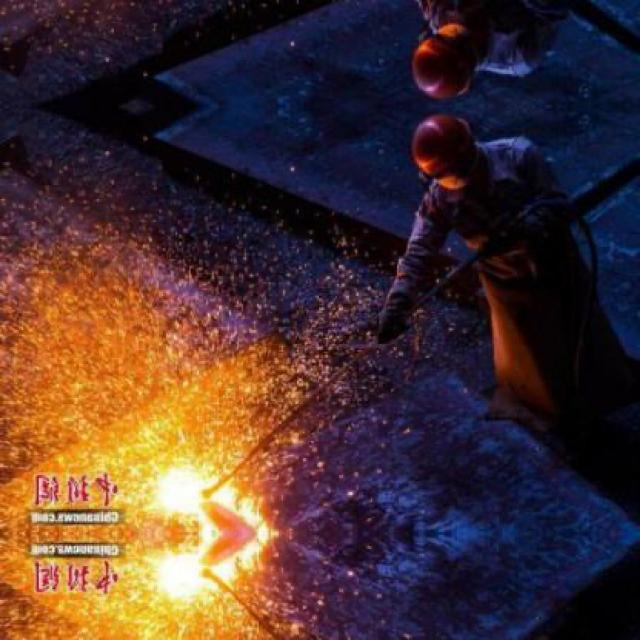helmet: (409, 112, 480, 184), (409, 30, 480, 100)
